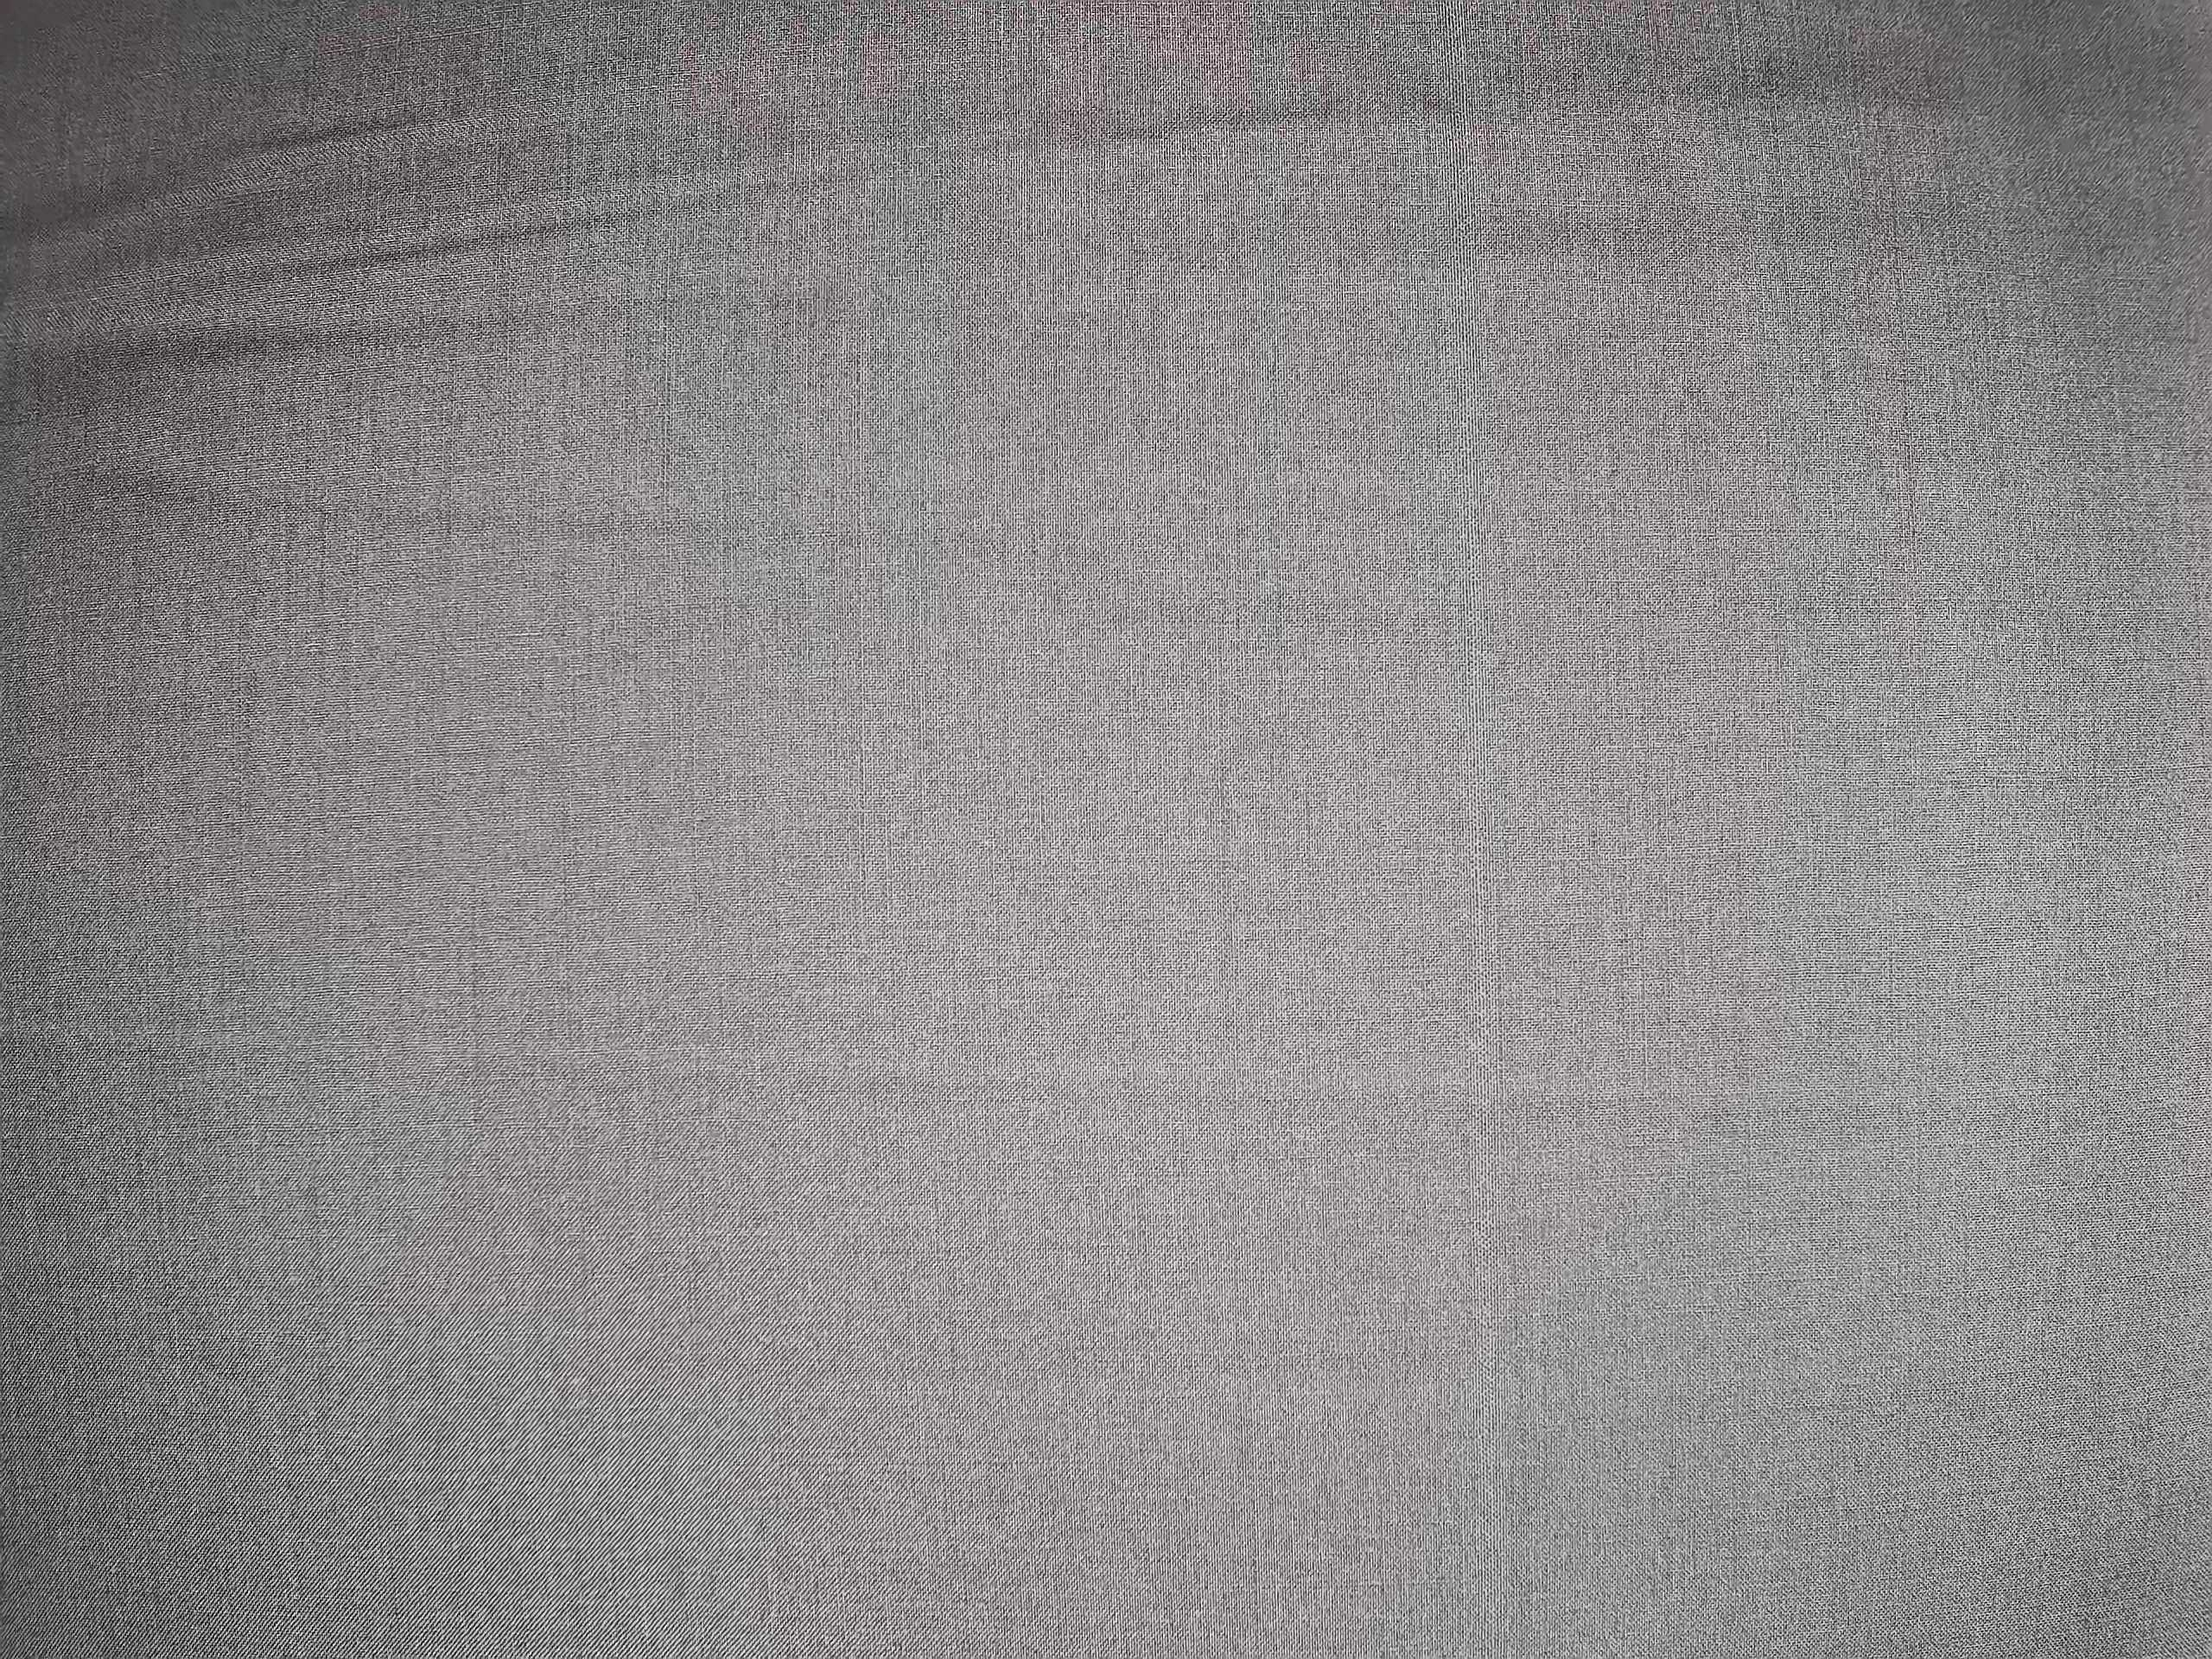lacking-warp: (1426, 7, 1510, 1650)
